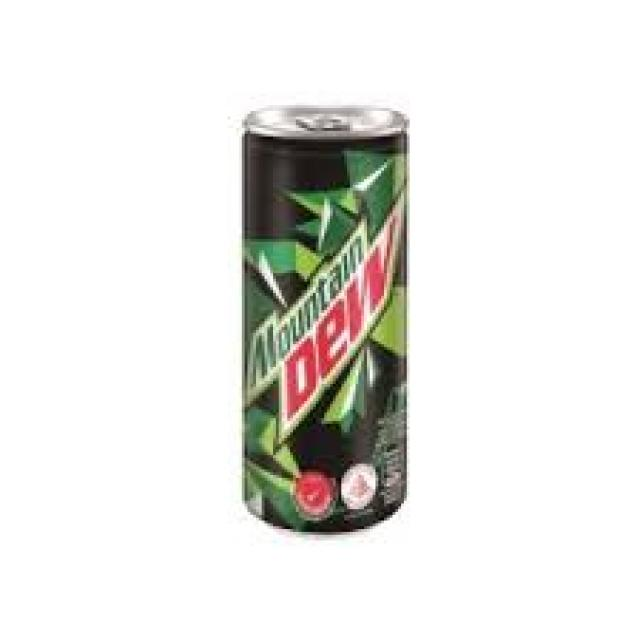Cans: (233, 88, 418, 538)
